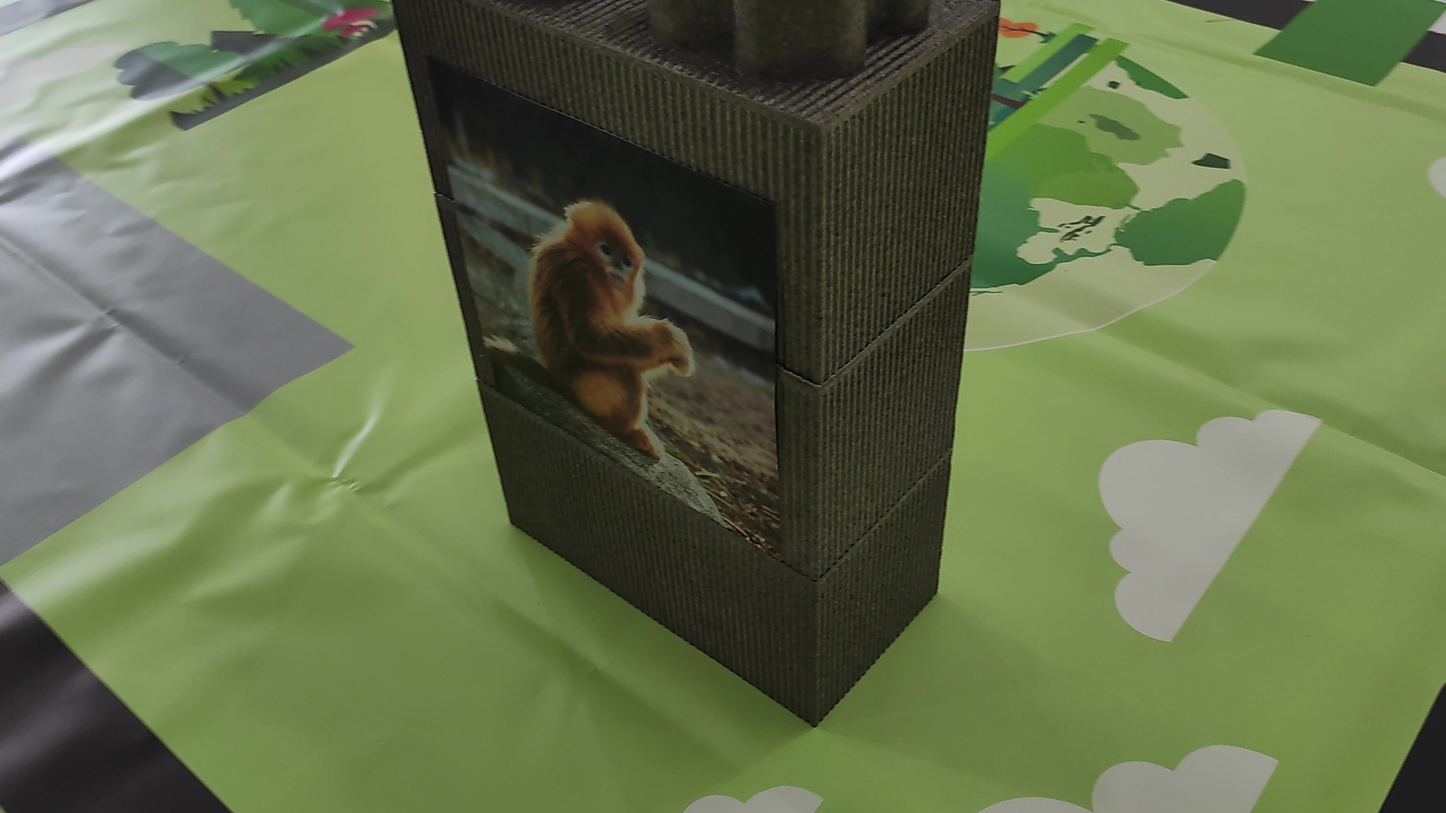monkey: (497, 192, 734, 453)
